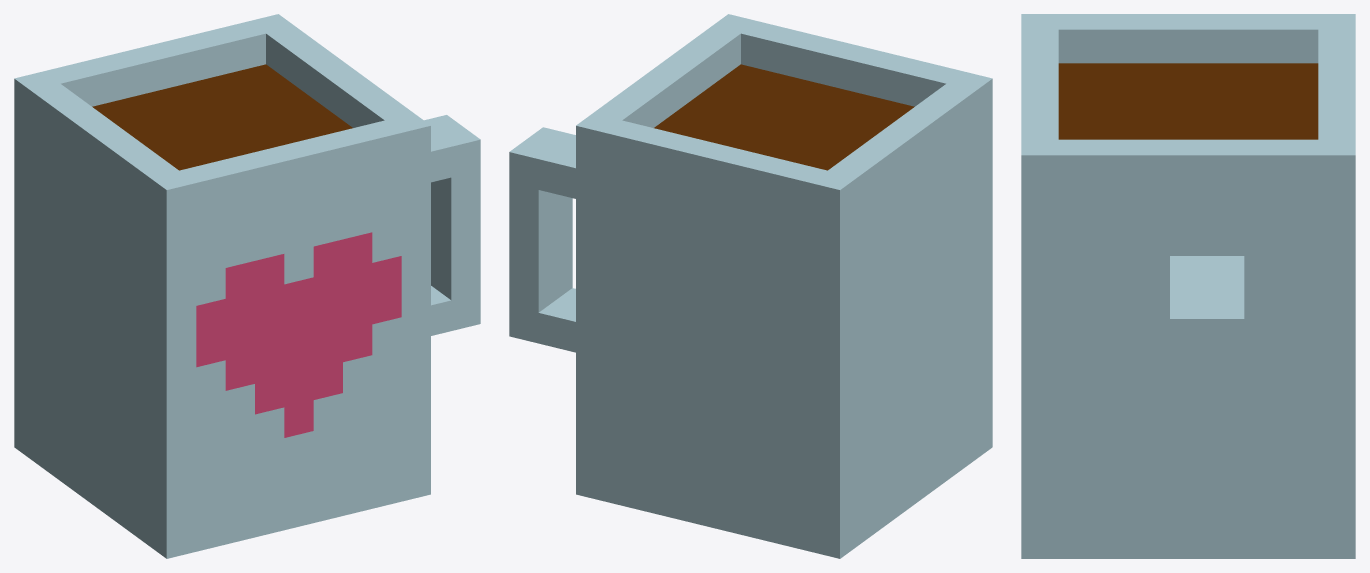
The model's file is main.obj.
3 views of the same model, side by side, from view 1: azimuth 30°, elevation 25°; view 2: azimuth 150°, elevation 25°; view 3: azimuth 270°, elevation 25° (orthographic). The views are drawn at different scales.
Bounding box in the file's own units: 1.3 × 1.2 × 0.9.
1 material, 1 textured.
